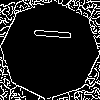I: (25, 25, 71, 43)
